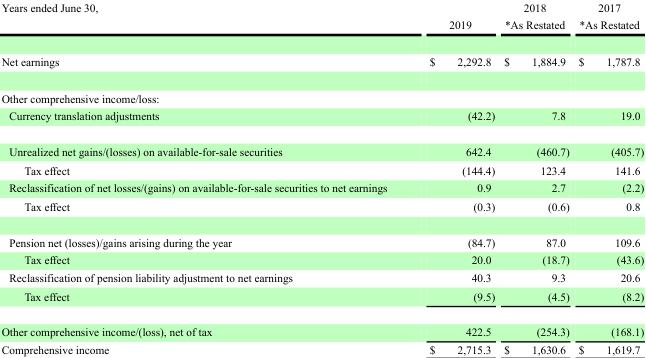table: (0, 0, 643, 355)
table column: (0, 0, 407, 355), (407, 0, 498, 355), (498, 0, 573, 355), (573, 0, 643, 355)
table column header: (0, 0, 643, 42)
table projected row header: (0, 79, 643, 106)
table row: (0, 0, 643, 42), (0, 42, 643, 79), (0, 196, 643, 224), (0, 79, 643, 106), (0, 106, 643, 133), (0, 133, 643, 160), (0, 286, 643, 313), (0, 313, 643, 340), (0, 224, 643, 250), (0, 160, 643, 178), (0, 178, 643, 196), (0, 250, 643, 268), (0, 268, 643, 286), (0, 340, 643, 355)
